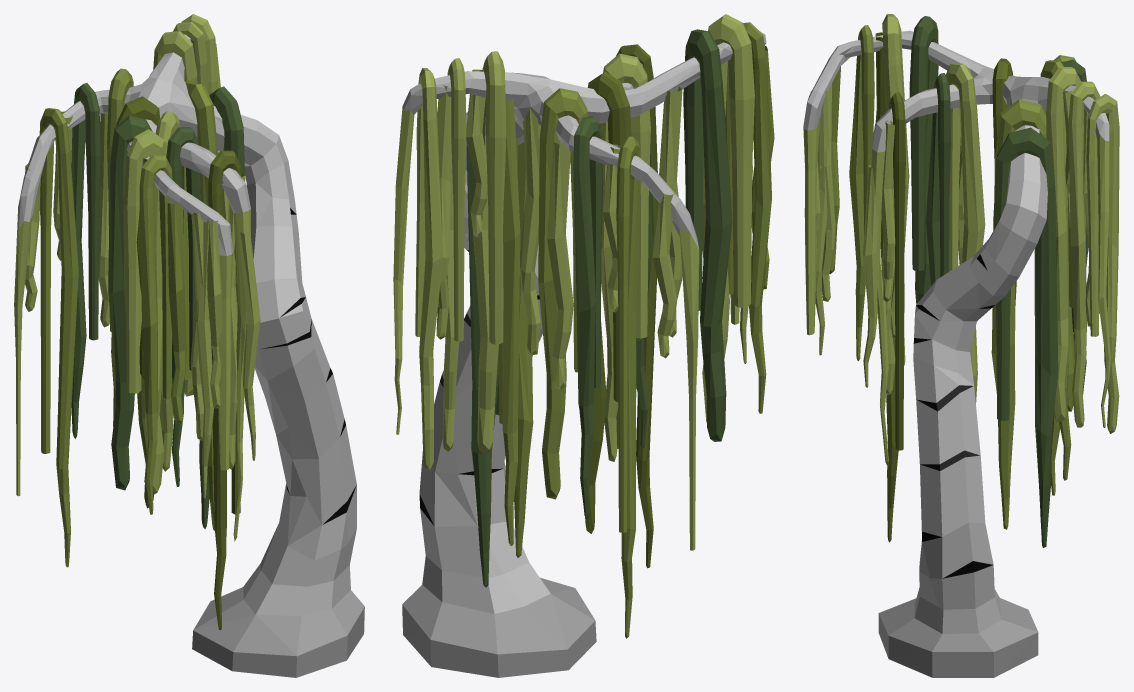
File: EA03_Nature_Tree_03b.glb
The picture shows the model from 3 angles, left to right: view 1: azimuth 30°, elevation 25°; view 2: azimuth 150°, elevation 25°; view 3: azimuth 270°, elevation 25°; orthographic projection. The views are drawn at different scales.
Parts seen in each view (by area): view 1: EA03_Nature_Tree_03b; view 2: EA03_Nature_Tree_03b; view 3: EA03_Nature_Tree_03b.
Part boxes in pixels (x1,y1,x2,y2): EA03_Nature_Tree_03b: [14, 14, 364, 677]; EA03_Nature_Tree_03b: [393, 14, 774, 677]; EA03_Nature_Tree_03b: [803, 14, 1119, 677].
Size of the model in its own units: 4.87 by 9.29 by 4.8.
Materials: 1 (1 with a texture image).
